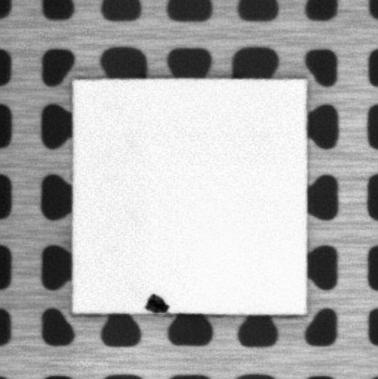DIE_INK: (143, 292, 170, 314)
